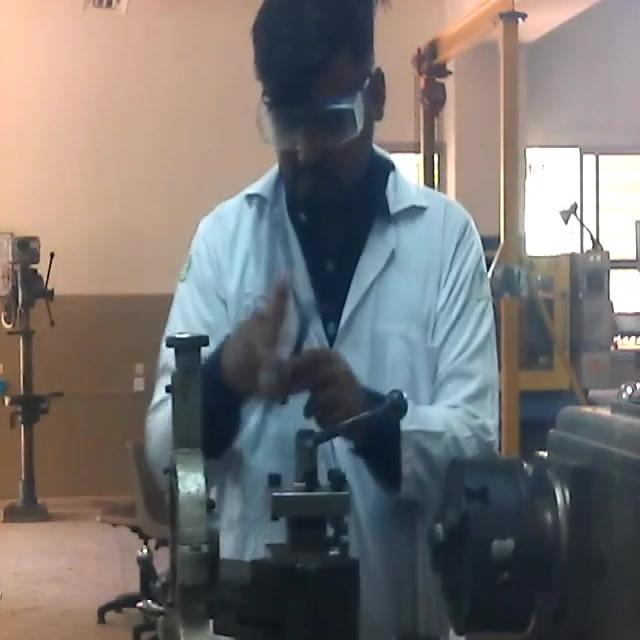googles: (258, 92, 362, 155)
labcoat: (146, 136, 500, 640)
